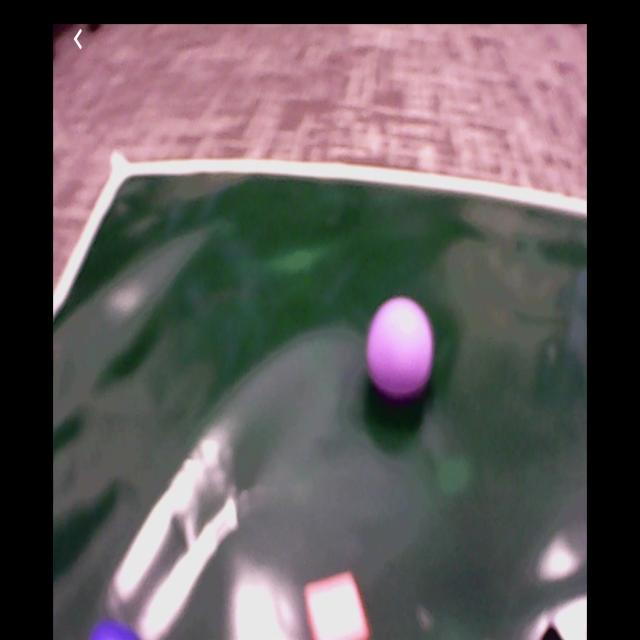ball: (367, 295, 434, 396), (88, 617, 140, 640)
